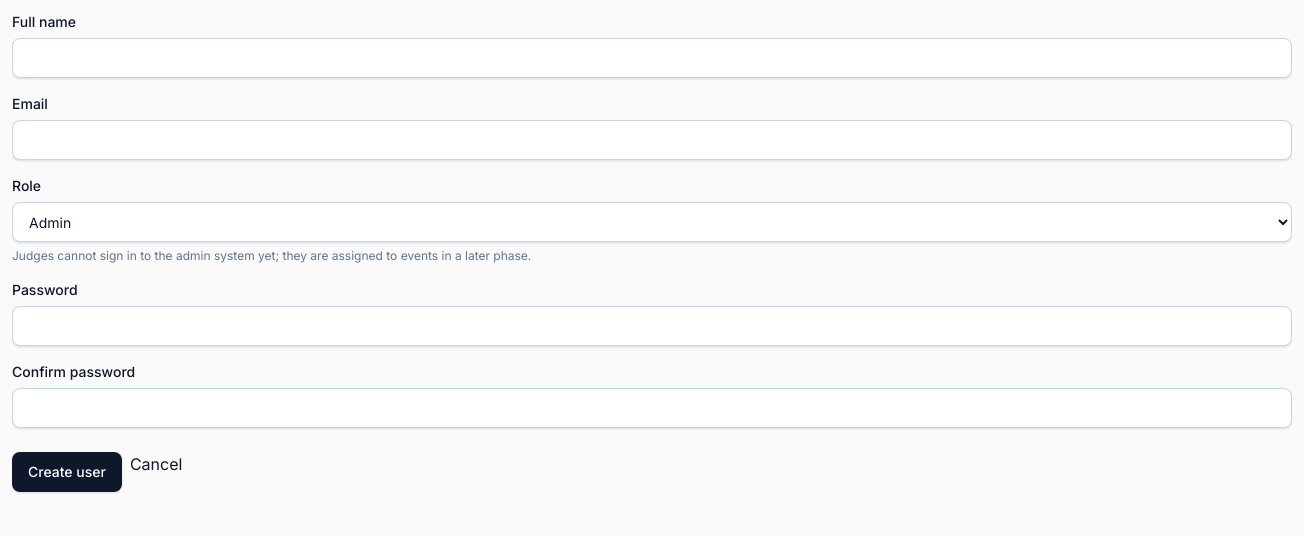
Test: UserForm › create mode rejects mismatched passwords
Step 1. Type "Jane Doe" into the field labelled "Full name" → (652, 58), box [12,38,1292,78]
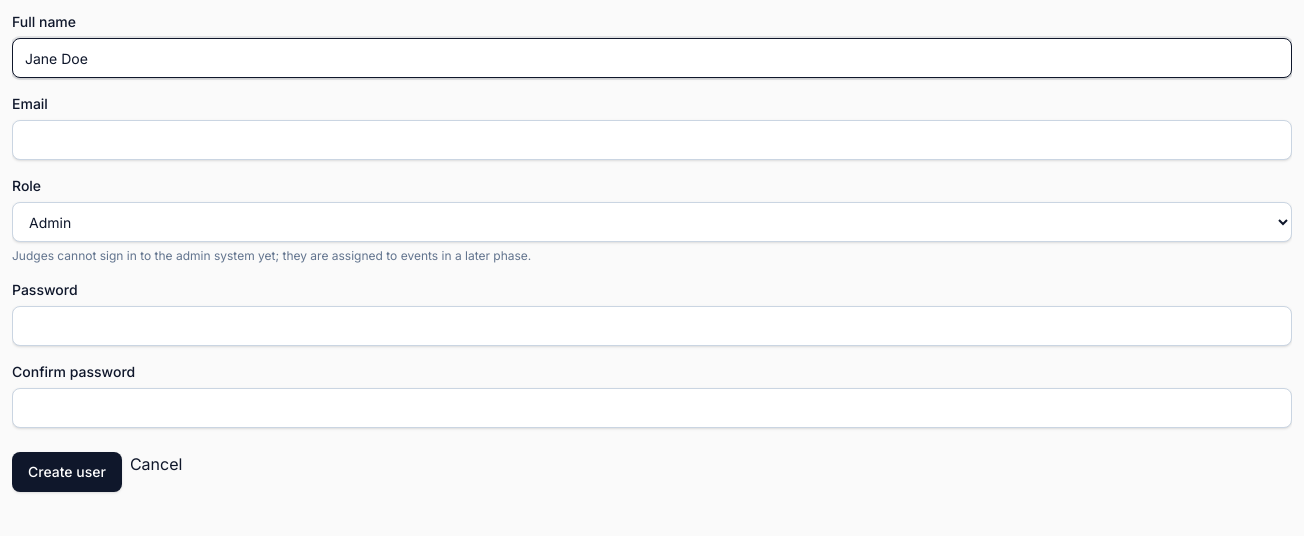
Step 2. Type "jane@example.test" into the field labelled "Email" → (652, 140), box [12,120,1292,160]
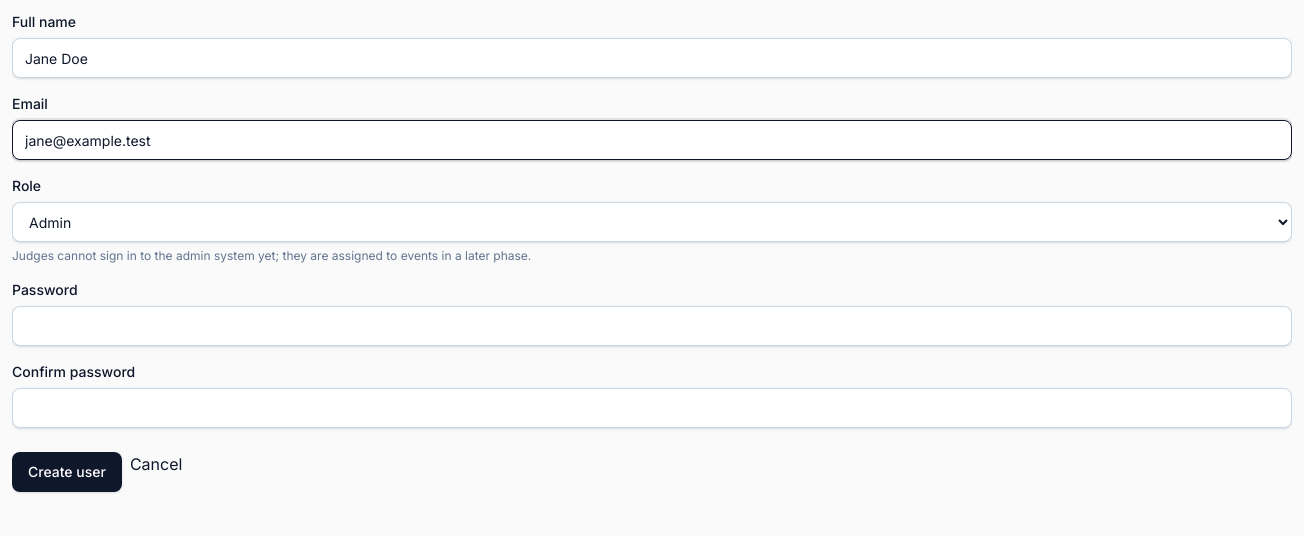
Step 3. Type "Str0ngPassword1" into the password field labelled "Password" → (652, 326), box [12,306,1292,346]
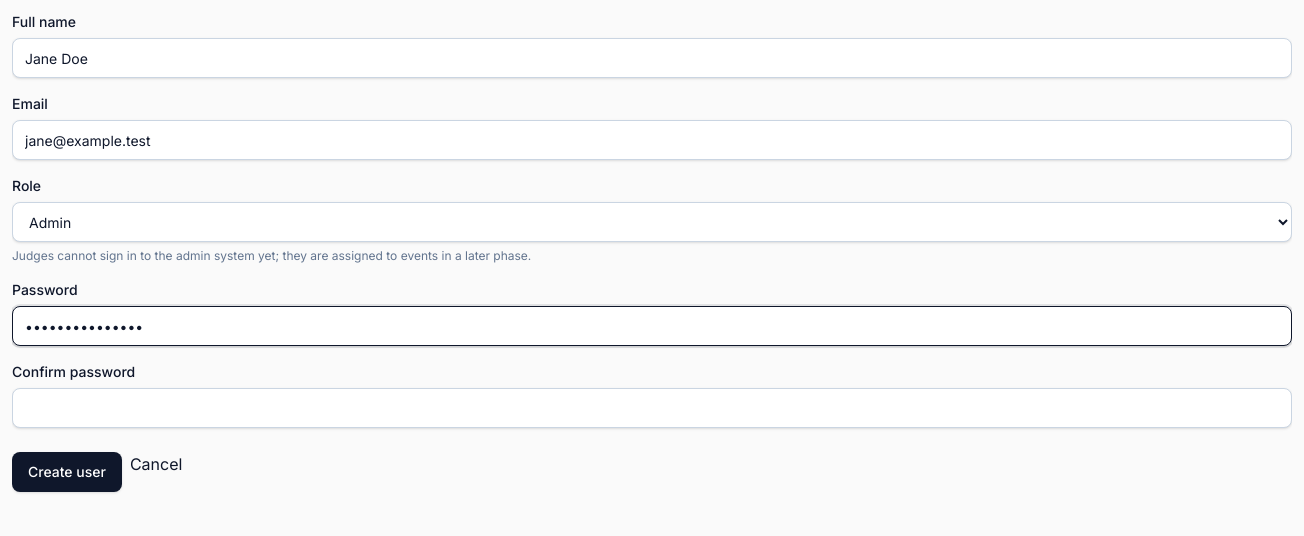
Step 4. Type "Different1Password" into the password field labelled "Confirm password" → (652, 408), box [12,388,1292,428]
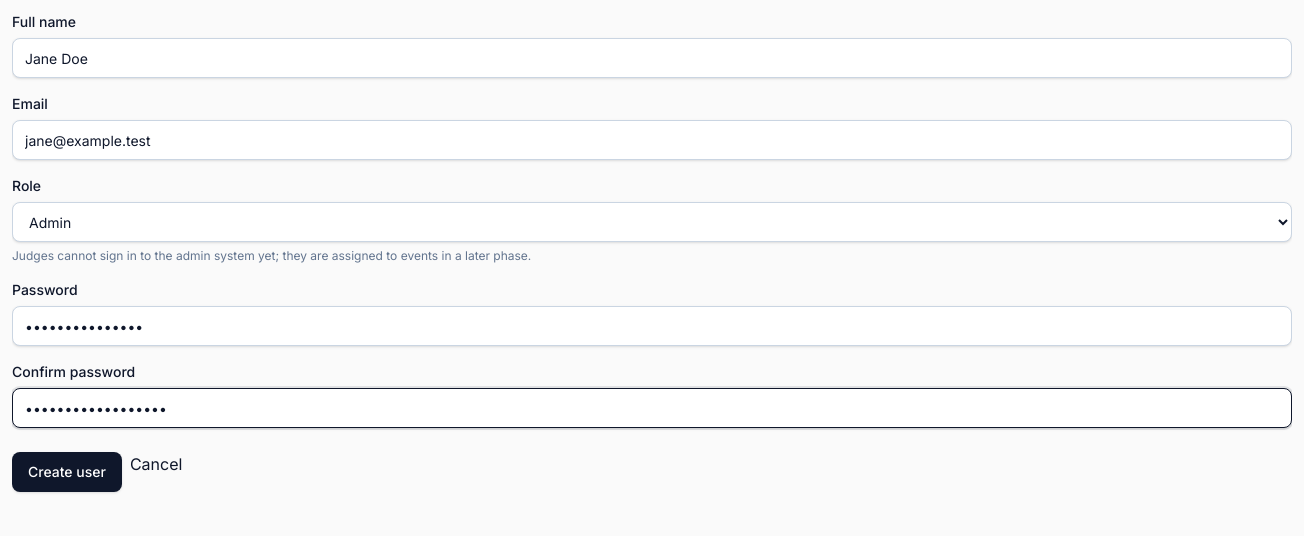
Step 5. Click the button "Create user" → (67, 472), box [12,452,122,492]
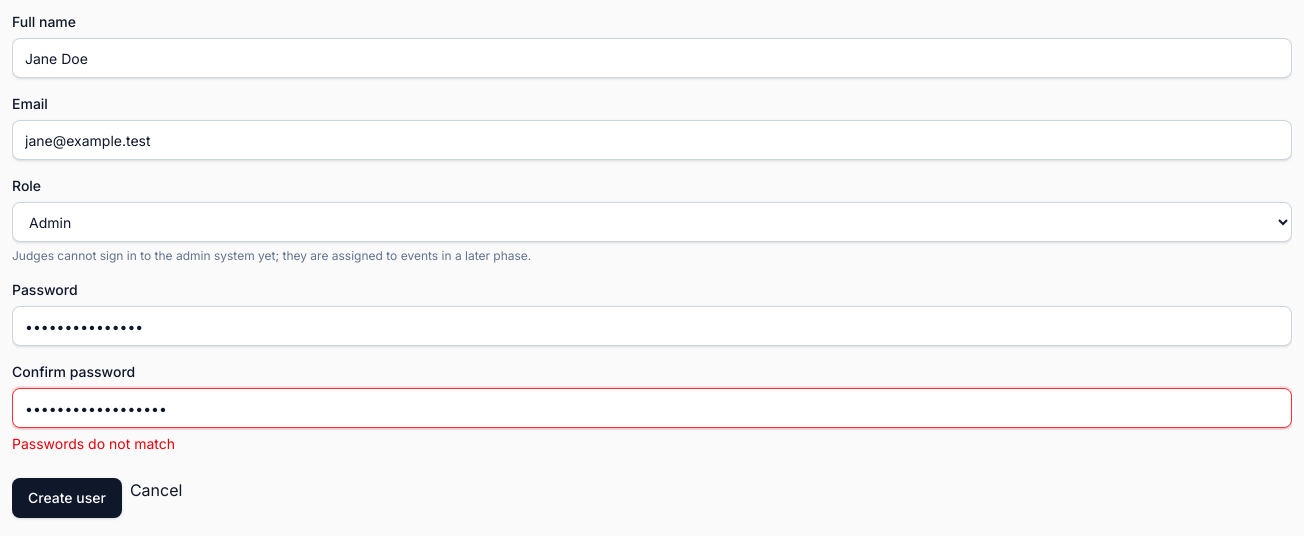
Result: the text "Passwords do not match" is shown at [12,435,175,452]
